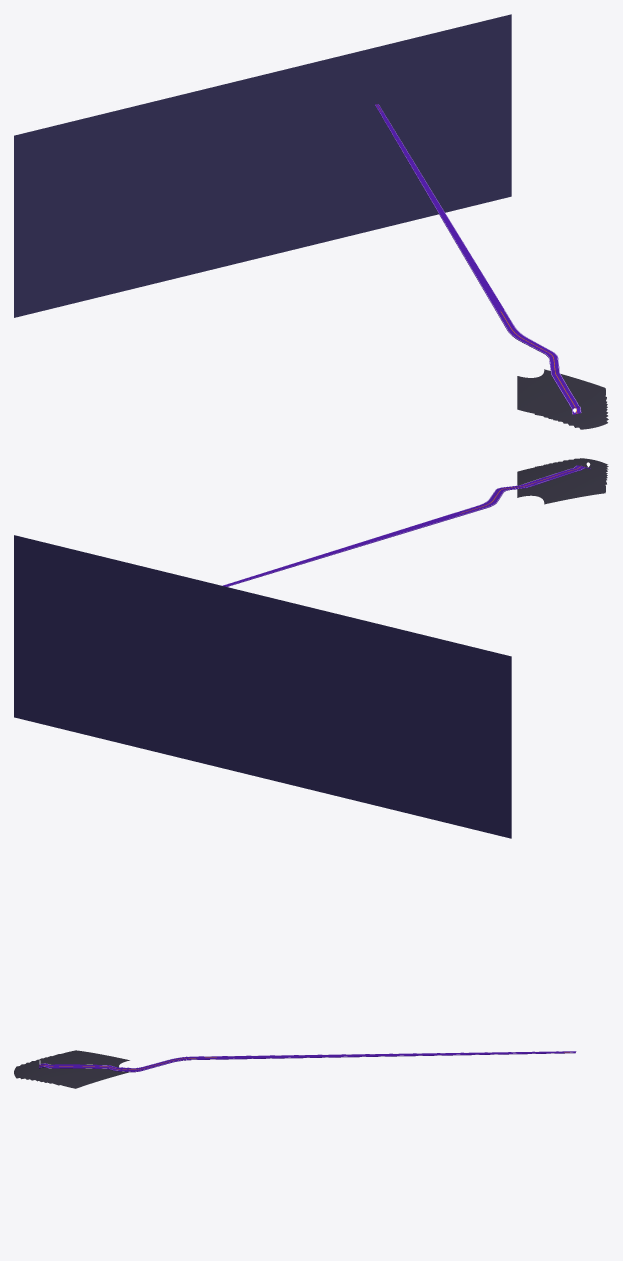
File: banner_new.glb
3 renders of one model, top to bottom at view 1: azimuth 30°, elevation 25°; view 2: azimuth 150°, elevation 25°; view 3: azimuth 270°, elevation 25°, orthographic. The views are drawn at different scales.
Parts seen in each view (by area): view 1: 背景, 地面, 公路; view 2: 背景, 地面, 公路; view 3: 地面, 公路.
Part boxes in pixels (<box>): 背景: <box>14,14,511,317</box>; 地面: <box>517,369,608,429</box>; 公路: <box>375,104,581,414</box>; 背景: <box>14,535,511,838</box>; 地面: <box>517,458,608,504</box>; 公路: <box>222,465,590,586</box>; 地面: <box>14,1050,129,1088</box>; 公路: <box>39,1051,576,1072</box>.
Size of the model in its own units: 51.84 by 18.14 by 60.11.
